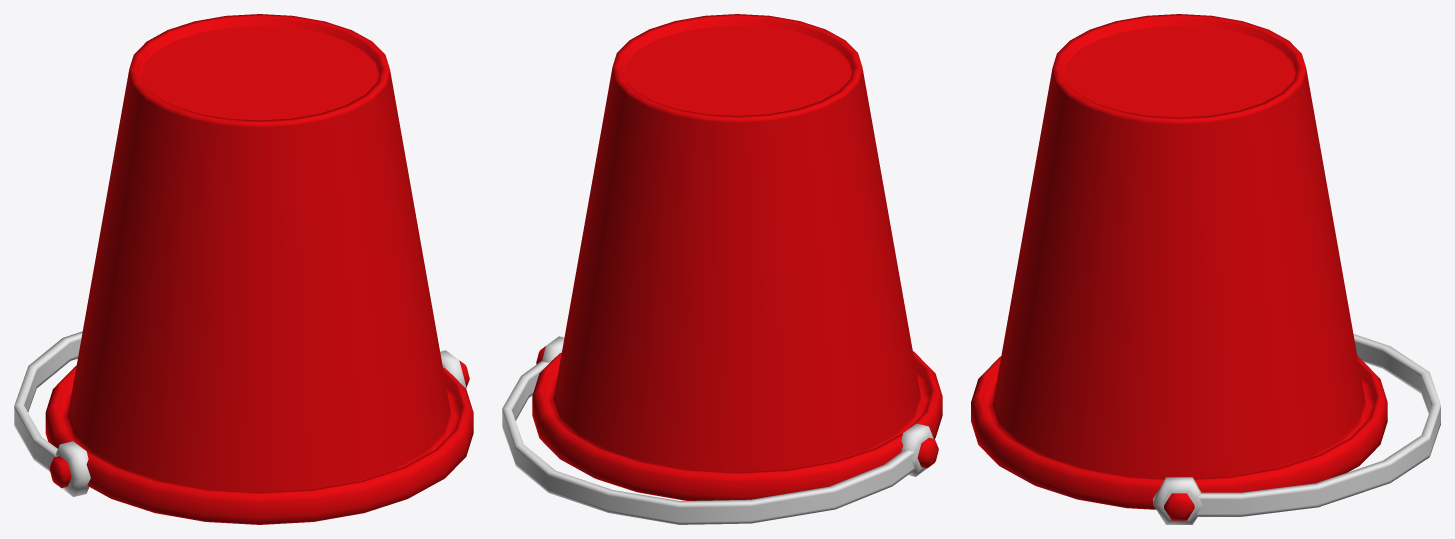
The model's file is BeachBucket.fbx.
3 views of the same model, side by side, from view 1: azimuth 30°, elevation 25°; view 2: azimuth 150°, elevation 25°; view 3: azimuth 270°, elevation 25° (orthographic). The views are drawn at different scales.
Parts seen in each view (by area): view 1: Bucket_LOD0; view 2: Bucket_LOD0; view 3: Bucket_LOD0.
Part boxes in pixels (x1=…): Bucket_LOD0: x1=14, y1=14, x2=473, y2=524; Bucket_LOD0: x1=502, y1=14, x2=942, y2=524; Bucket_LOD0: x1=971, y1=14, x2=1440, y2=524.
Size of what is drawn, in the model's own units: 81.29 by 70.73 by 82.31.
